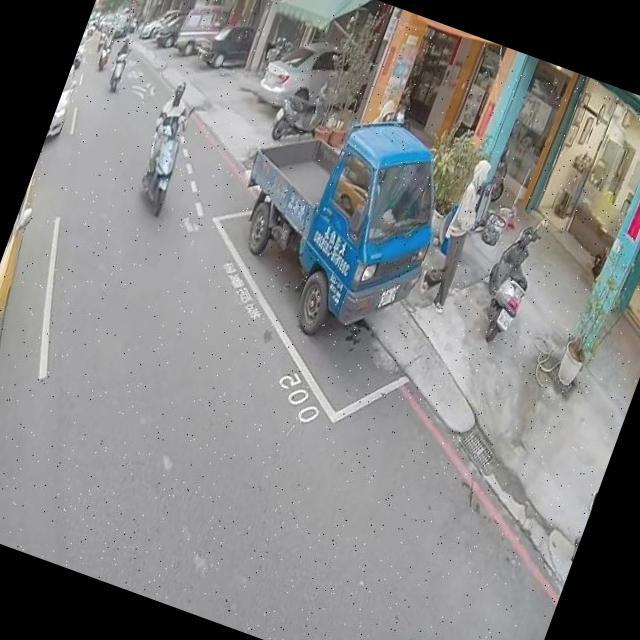person: (410, 150, 502, 315), (134, 78, 200, 194), (370, 92, 402, 136), (388, 100, 412, 131), (116, 31, 136, 61), (104, 22, 120, 50)
